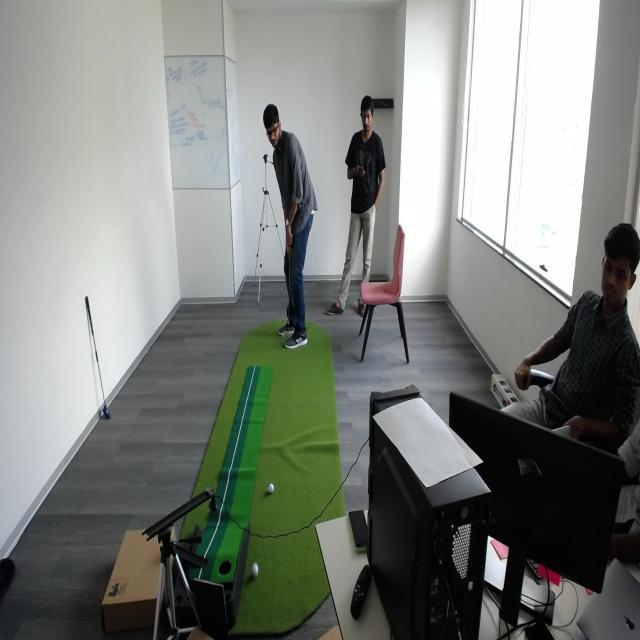ClubHead: (97, 402, 115, 425), (281, 328, 290, 341)
GolfBall: (251, 560, 261, 583), (267, 482, 276, 494)
